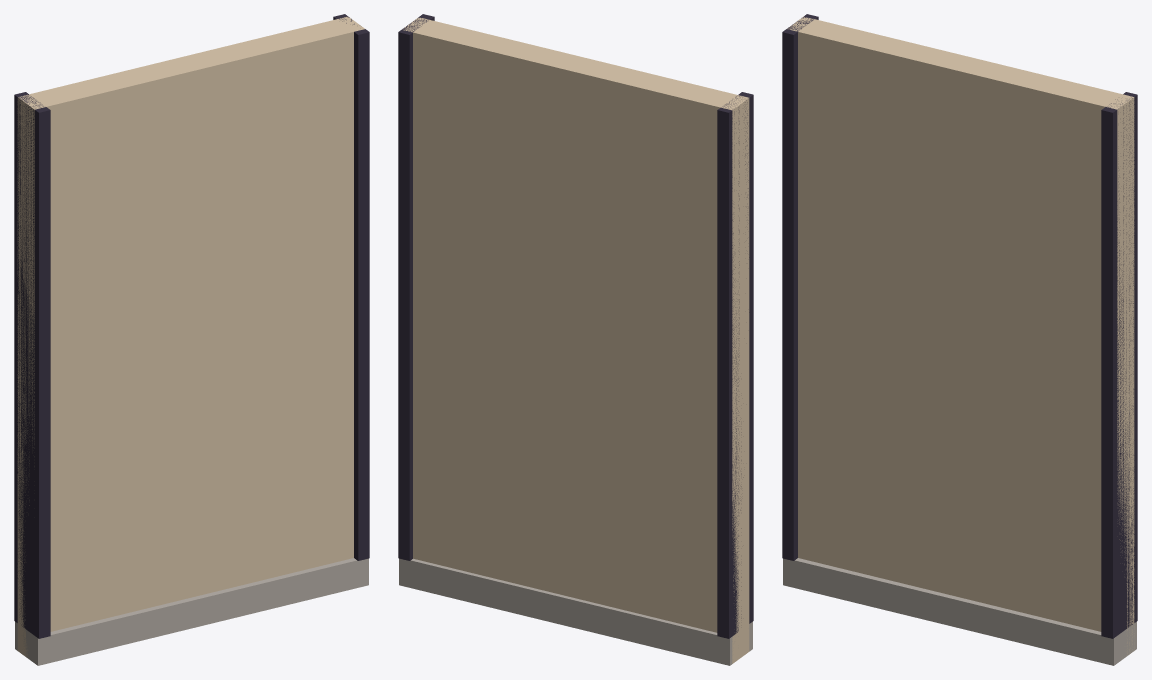
The model's file is SM_Cafe_Wall_Solid_2m.fbx.
3 renders of one model, left to right at view 1: azimuth 30°, elevation 25°; view 2: azimuth 150°, elevation 25°; view 3: azimuth 330°, elevation 25°, orthographic.
Parts seen in each view (by area): view 1: SM_Cafe_Wall_Solid_2m; view 2: SM_Cafe_Wall_Solid_2m; view 3: SM_Cafe_Wall_Solid_2m.
Boxes of the visible parts, bbox=[...] form: SM_Cafe_Wall_Solid_2m: bbox=[14, 14, 369, 665]; SM_Cafe_Wall_Solid_2m: bbox=[398, 14, 753, 665]; SM_Cafe_Wall_Solid_2m: bbox=[782, 14, 1137, 665].
Bounding box in the file's own units: 2 × 0.26 × 3.2.
